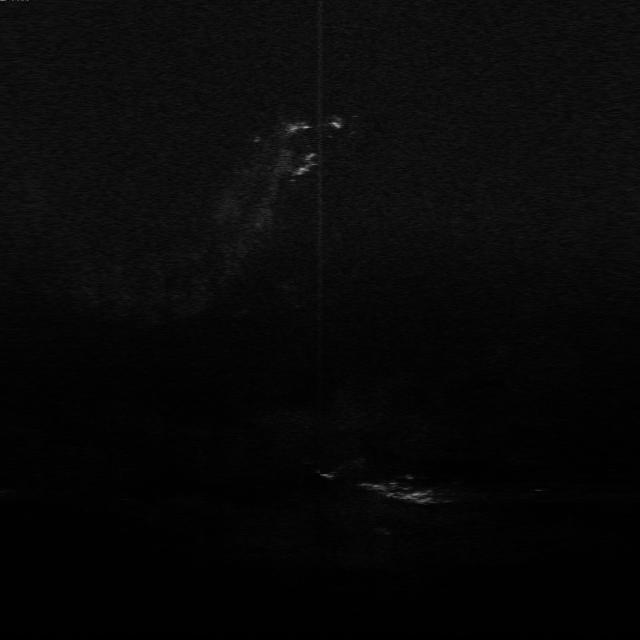rov: (327, 116, 348, 133)
